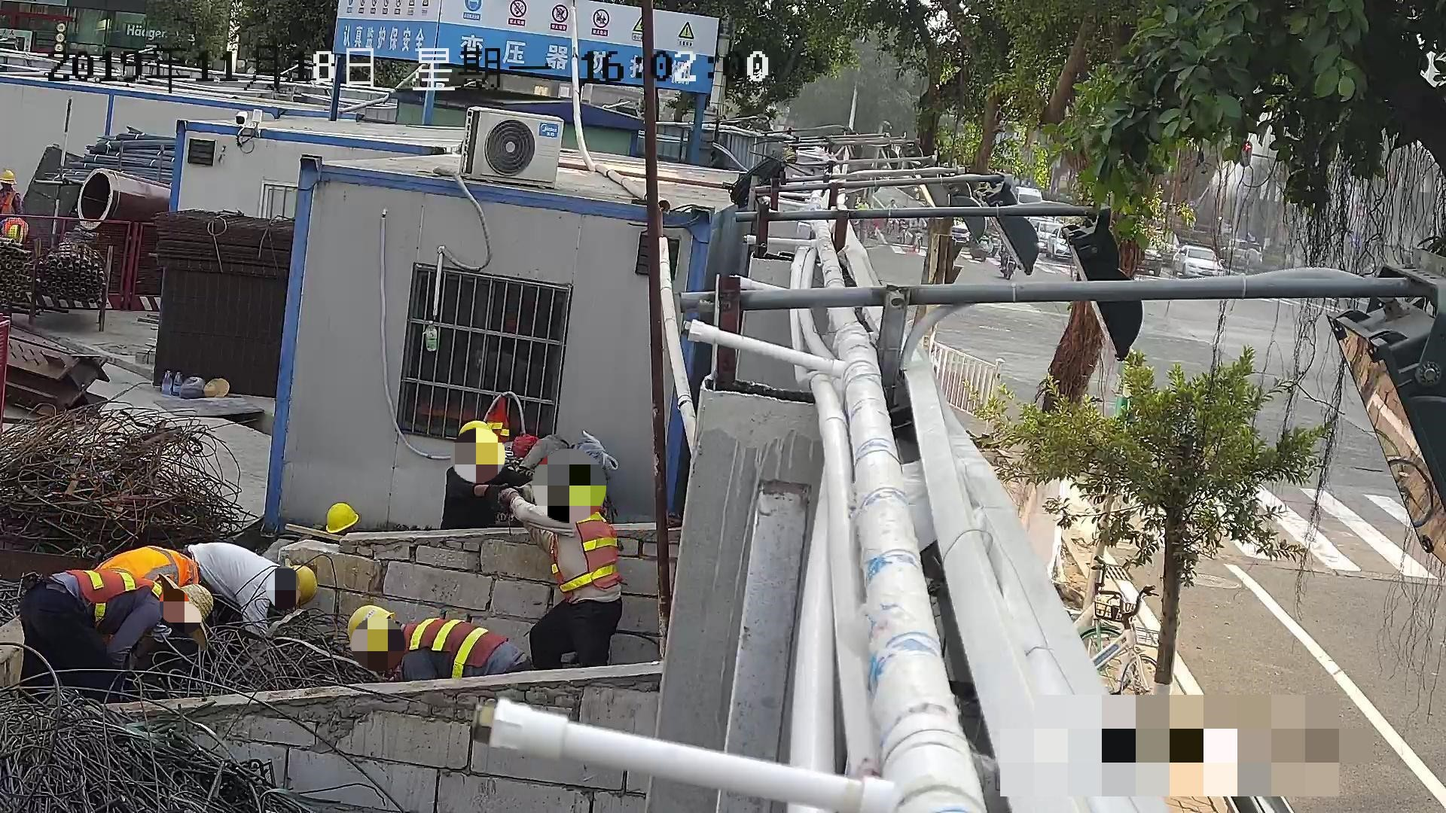hat: (544, 463, 600, 506), (456, 420, 498, 473), (1, 169, 17, 192)
person: (497, 463, 627, 662), (440, 419, 538, 529), (1, 167, 23, 216)
